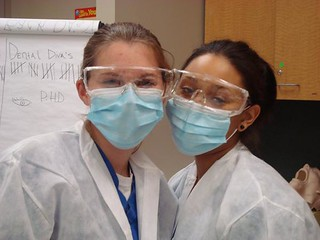surgical: (82, 85, 168, 151), (160, 94, 234, 156)
